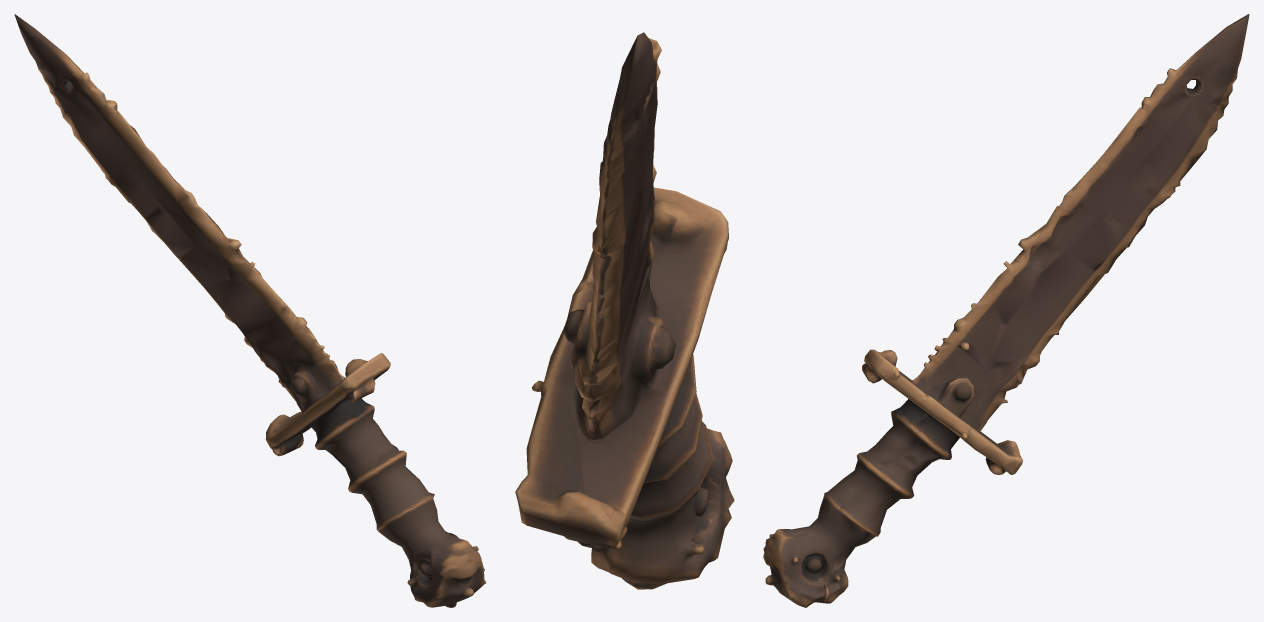
The model's file is rusted_shiv.glb.
The picture shows the model from 3 angles, left to right: view 1: azimuth 30°, elevation 25°; view 2: azimuth 150°, elevation 25°; view 3: azimuth 270°, elevation 25°; orthographic projection. The views are drawn at different scales.
Visible parts, largest first — view 1: base_model_path; view 2: base_model_path; view 3: base_model_path.
Part boxes in pixels (<box>): base_model_path: <box>14,14,486,607</box>; base_model_path: <box>515,32,734,589</box>; base_model_path: <box>763,14,1249,607</box>.
Size of the model in its own units: 0.5301 by 0.9995 by 0.9076.
Materials: 1 (1 with a texture image).
